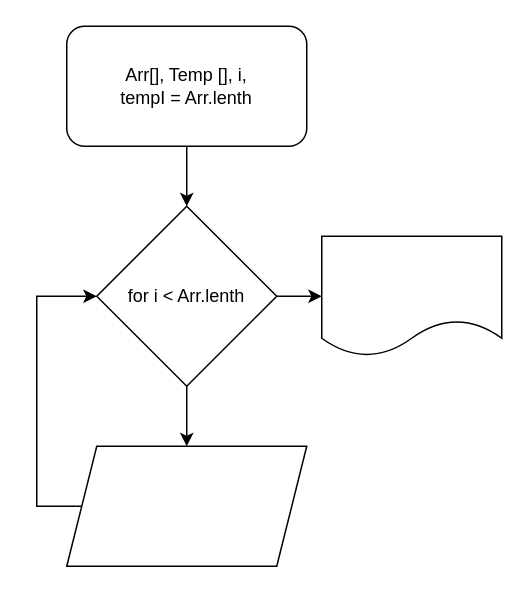
Some shapes in this 528 by 593 pixel diagram are drawn without their labels. The centre of each missing label's shape, as x and y in pixels:
Temp []: (411,295)
Temp [i] = Arr [tempI], tempI--, i++: (186,505)
